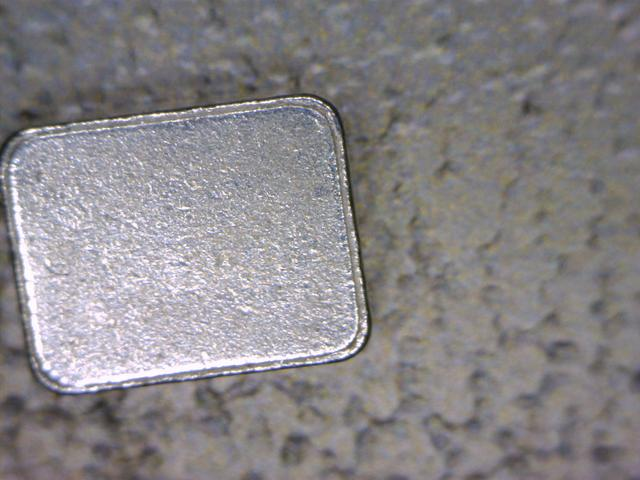nok: (6, 90, 374, 410)
